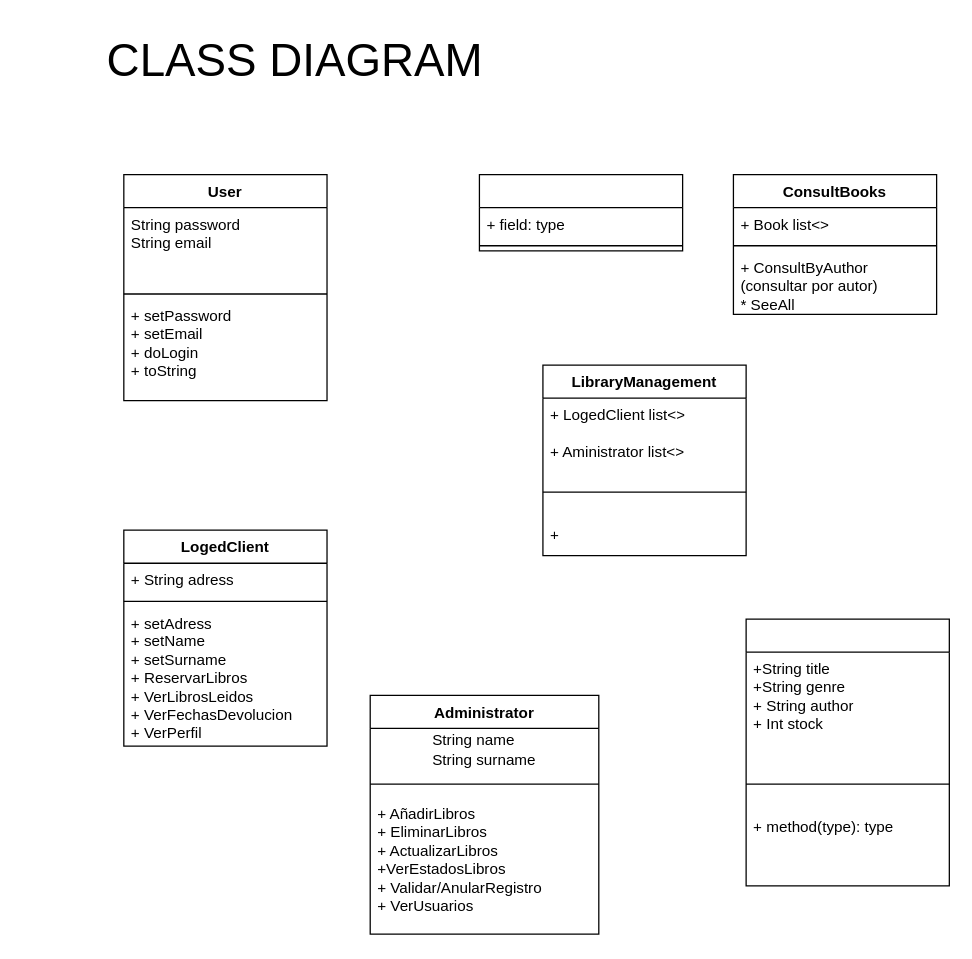
Some shapes in this 972 by 959 pixel diagram are drawn without their labels. The box of each missing label's shape, as (x1, y1, x2, y2) in pixels:
Book: (745, 618, 949, 886)
Login: (478, 173, 683, 251)
